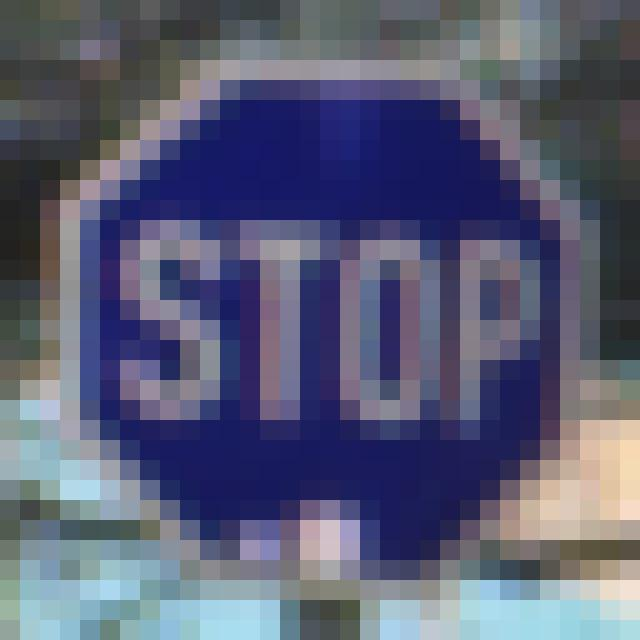STOP: (72, 74, 570, 582)
